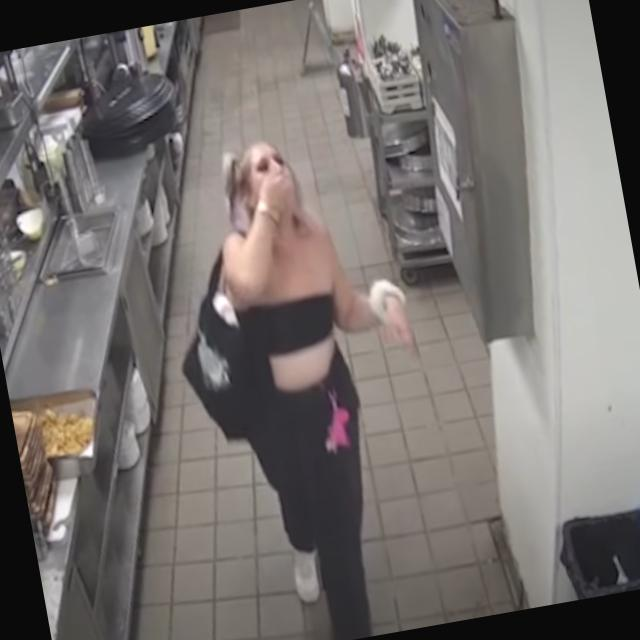person: (170, 118, 463, 640)
